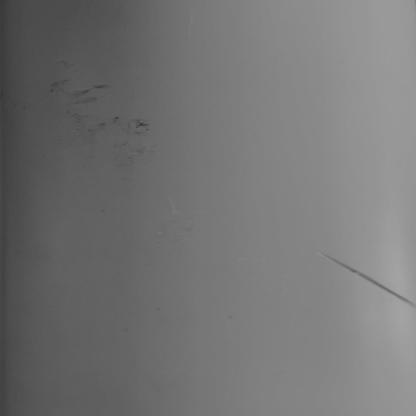sunshang: (329, 253, 416, 308)
